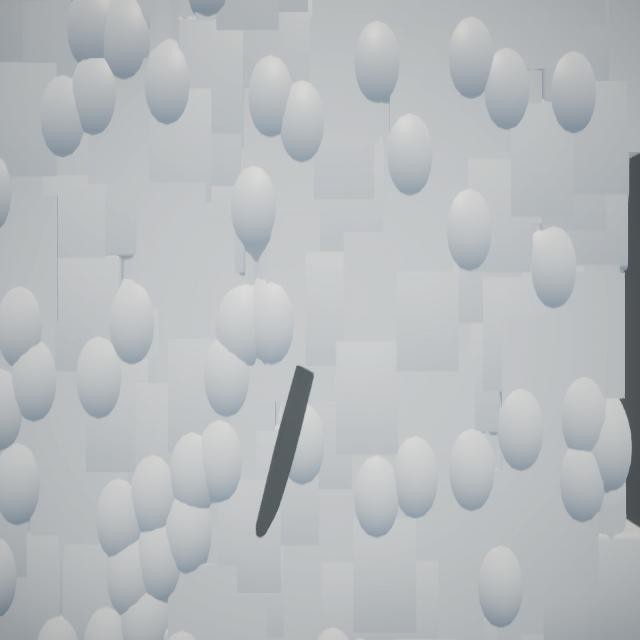top_knife: (257, 366, 316, 540)
